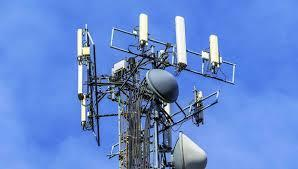Microwave Antenna: (173, 132, 210, 169), (144, 70, 182, 105)
antenna: (173, 15, 189, 67), (207, 34, 221, 66), (74, 27, 87, 57), (75, 60, 84, 101), (138, 14, 149, 41)
